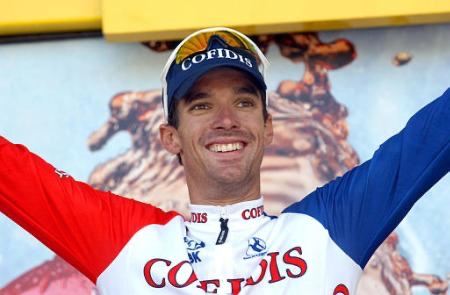Face: (171, 86, 270, 186)
